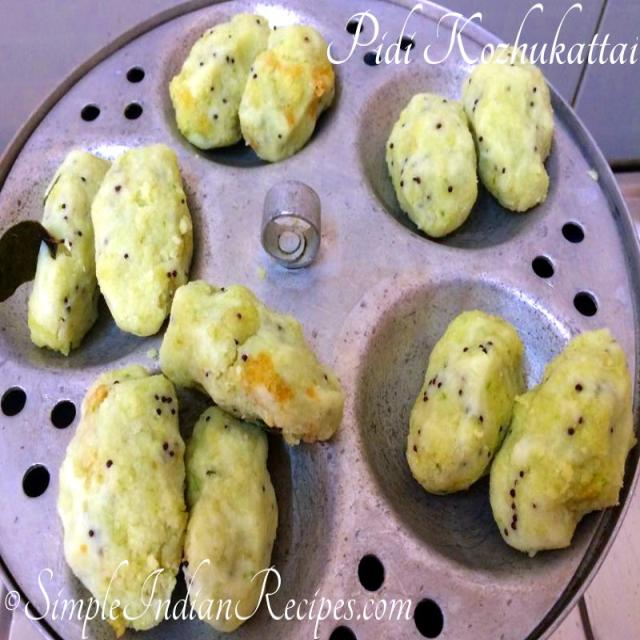pidi kolukattai: (58, 365, 186, 637), (490, 330, 635, 555), (160, 281, 342, 444), (406, 310, 523, 493), (184, 407, 278, 630), (92, 144, 192, 335), (28, 150, 110, 355), (462, 47, 553, 211), (170, 14, 268, 149), (386, 93, 476, 237), (240, 26, 334, 161)
